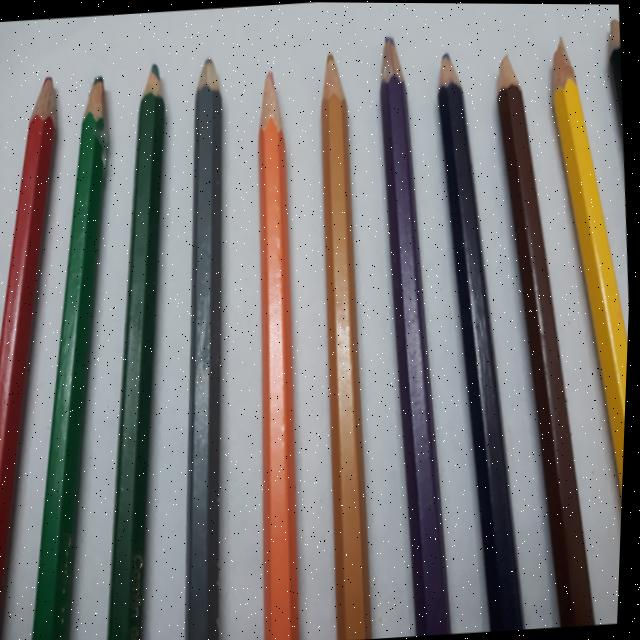pencil: (484, 42, 611, 626), (149, 48, 268, 640), (424, 46, 541, 630), (359, 27, 471, 636), (22, 62, 123, 640), (297, 42, 394, 640), (225, 60, 325, 640), (538, 37, 630, 522), (98, 61, 175, 640), (0, 55, 72, 640), (599, 4, 625, 165)
